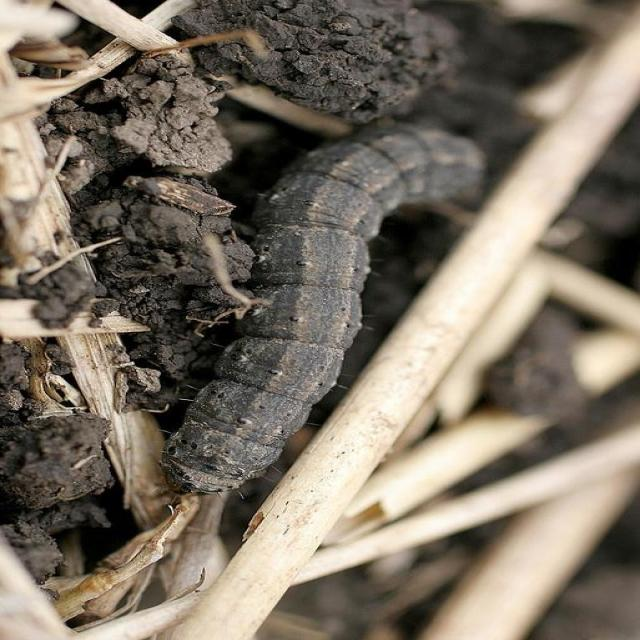black cutworm: (167, 123, 494, 506)
